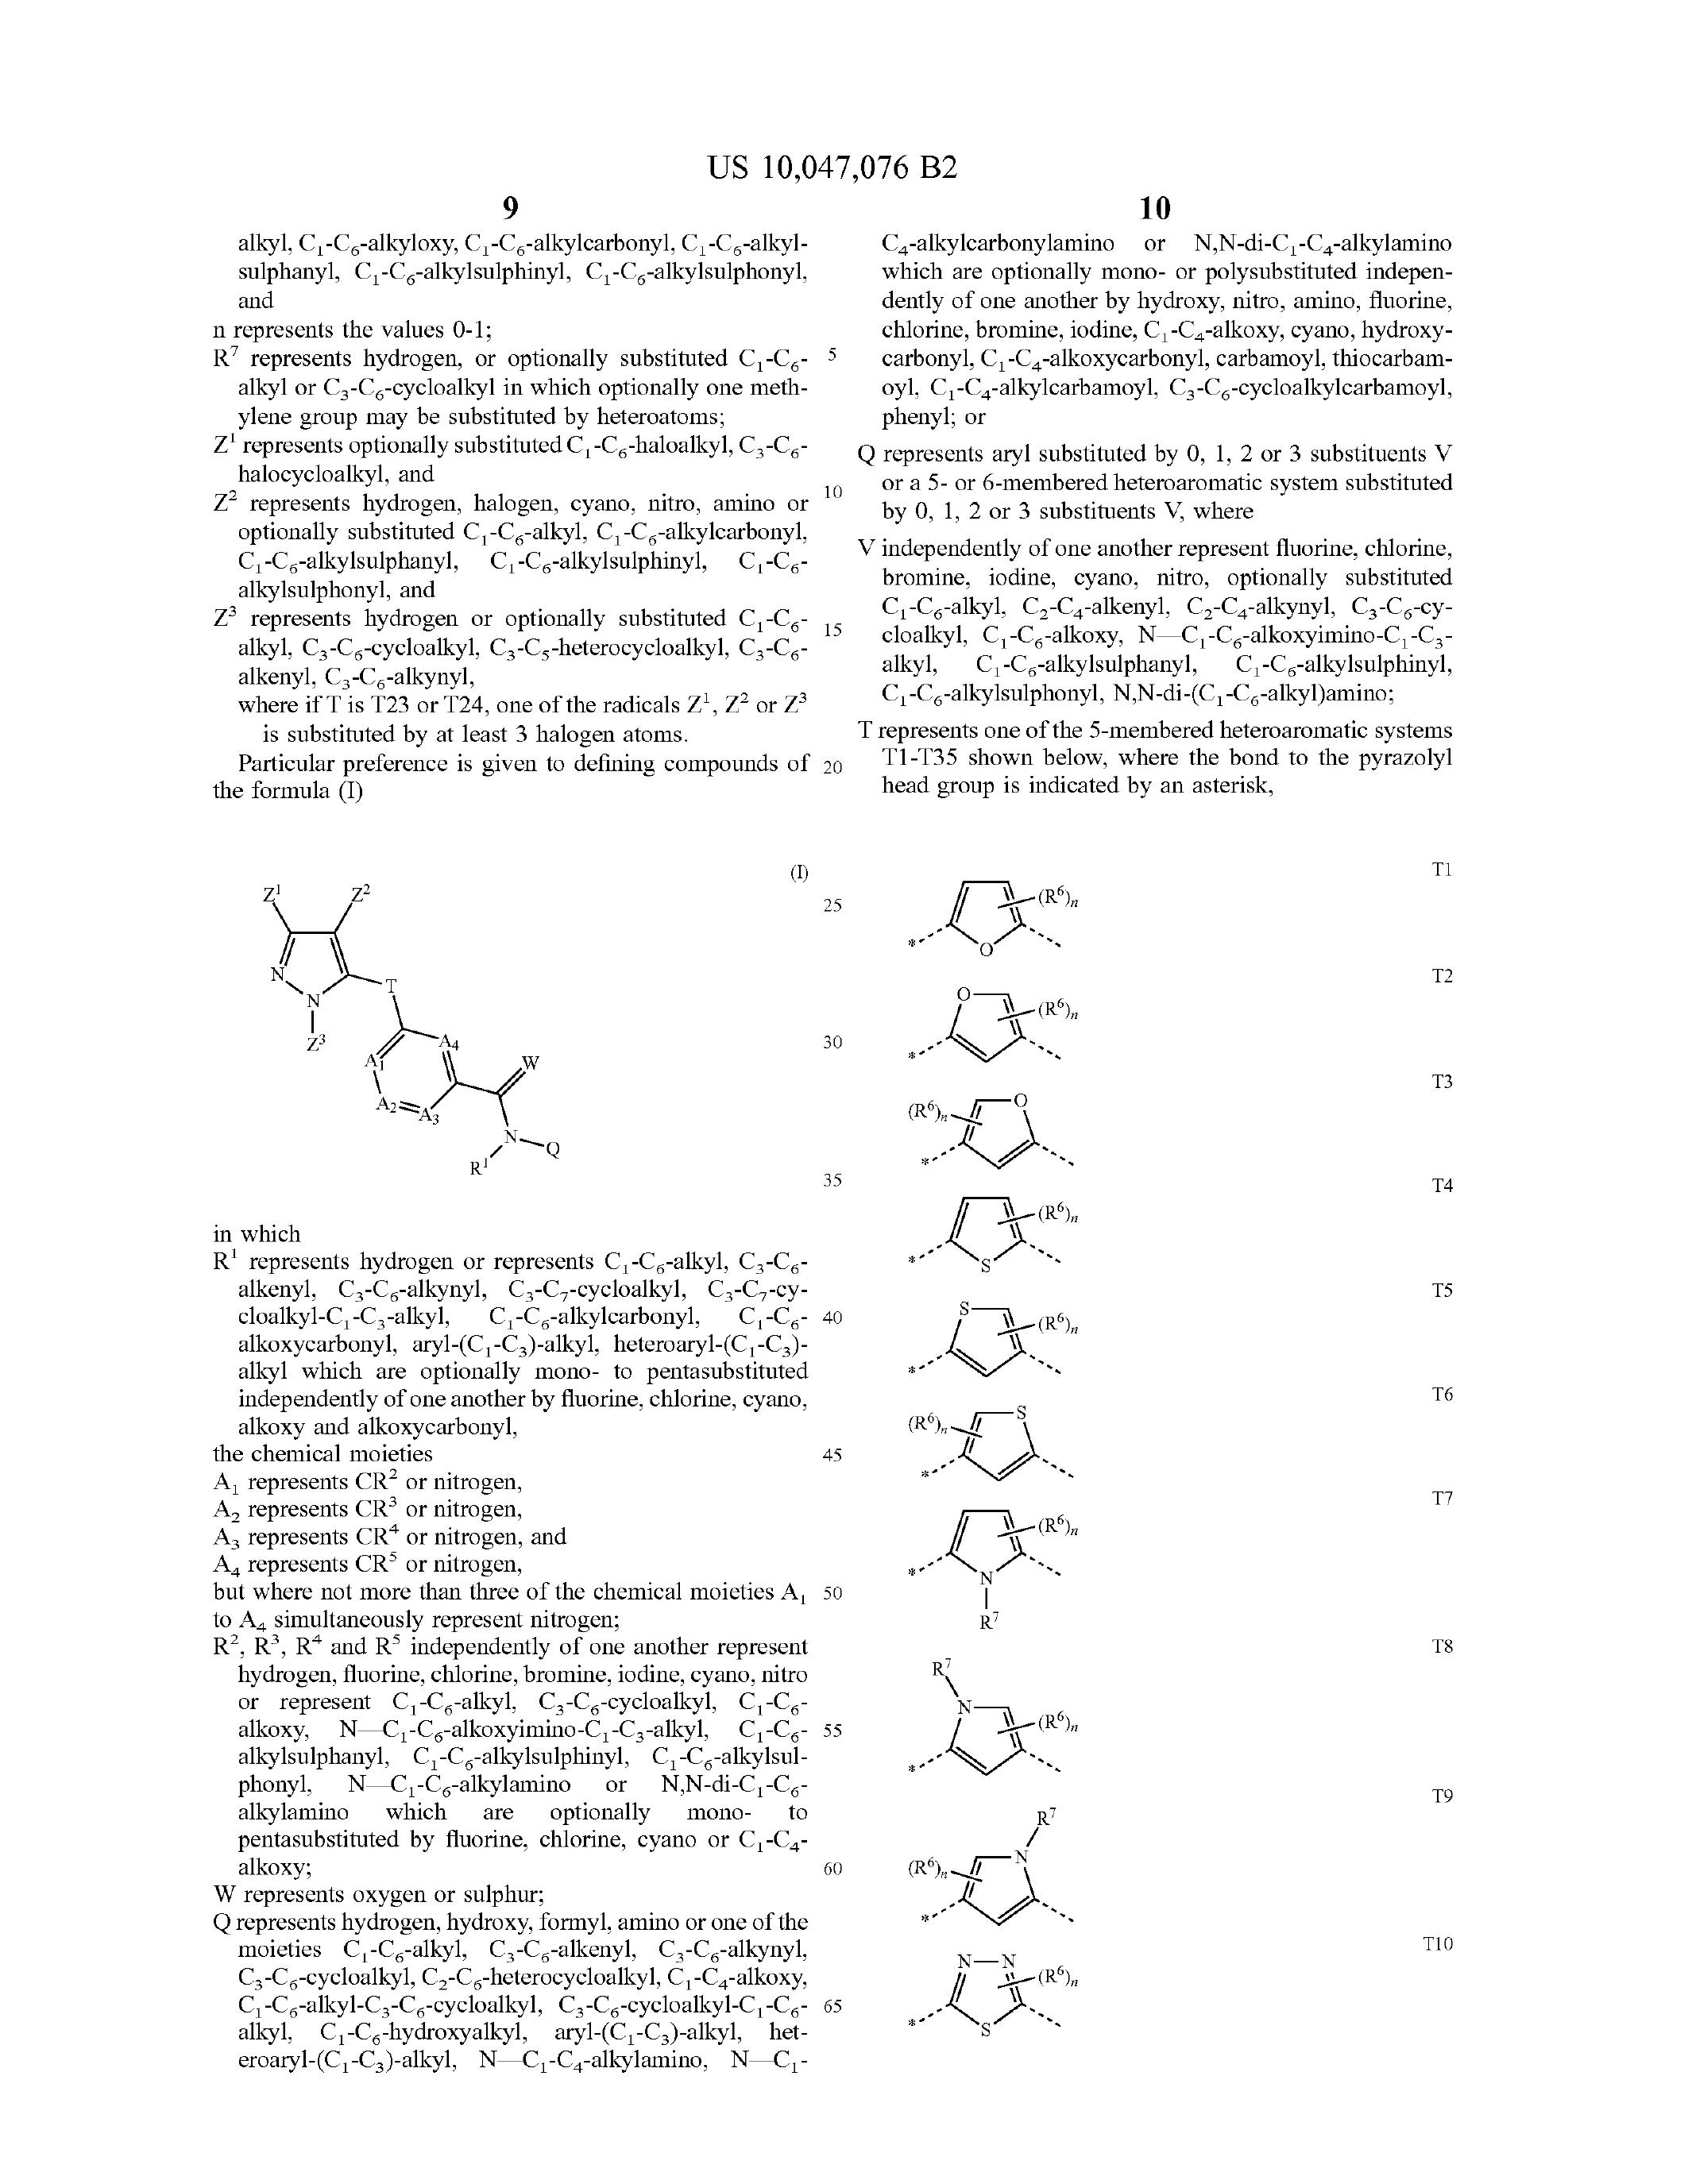markush-structures: (160, 847, 635, 1202)
